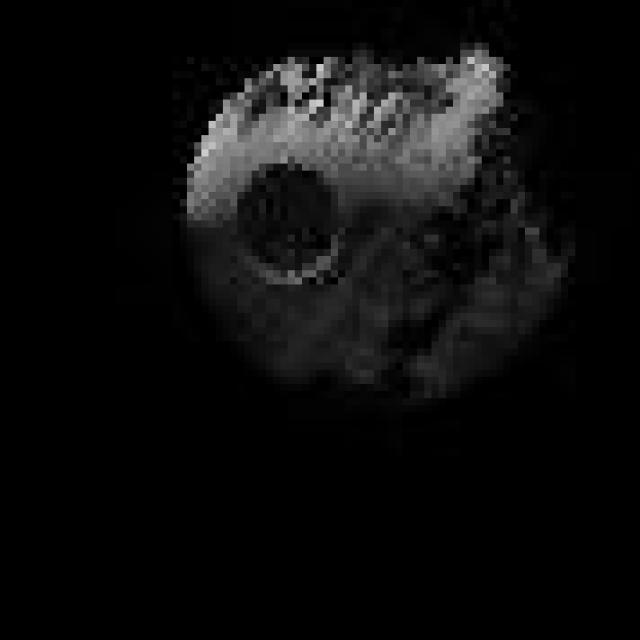Death Star: (165, 29, 576, 412)
